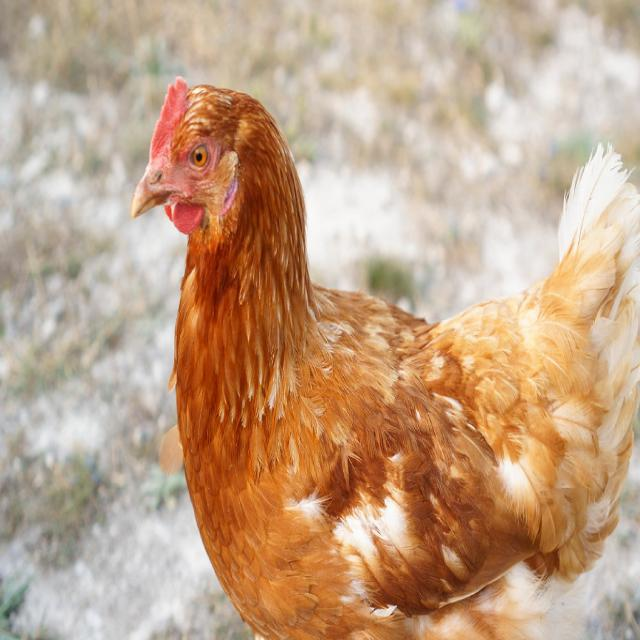Chicken: (130, 72, 640, 640)
